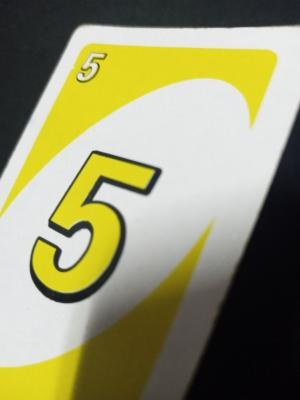num_5: (23, 134, 167, 378), (73, 46, 116, 118)
